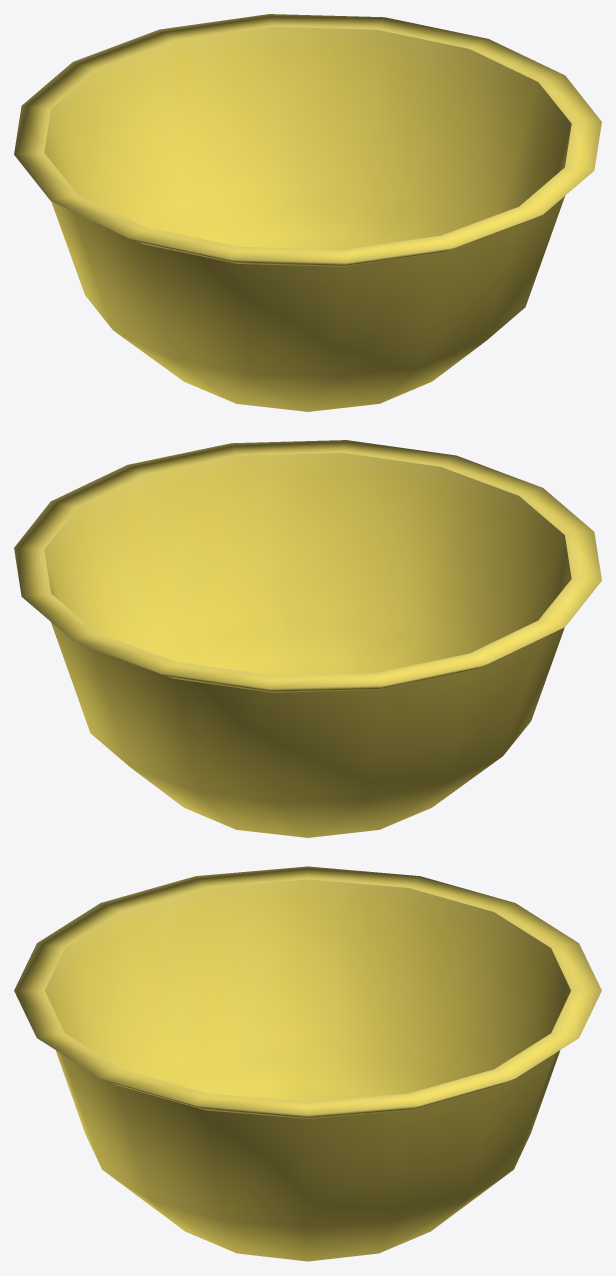
Rendered from KR_Bowl_01_02.fbx.
The picture shows the model from 3 angles, top to bottom: view 1: azimuth 30°, elevation 25°; view 2: azimuth 150°, elevation 25°; view 3: azimuth 270°, elevation 25°; orthographic projection.
Visible parts, largest first — view 1: kr_bowl_01_02; view 2: kr_bowl_01_02; view 3: kr_bowl_01_02.
Part boxes in pixels (x1=…): kr_bowl_01_02: x1=14, y1=14, x2=601, y2=411; kr_bowl_01_02: x1=14, y1=440, x2=601, y2=837; kr_bowl_01_02: x1=14, y1=866, x2=601, y2=1261.
Bounding box in the file's own units: 24 × 10 × 24.
